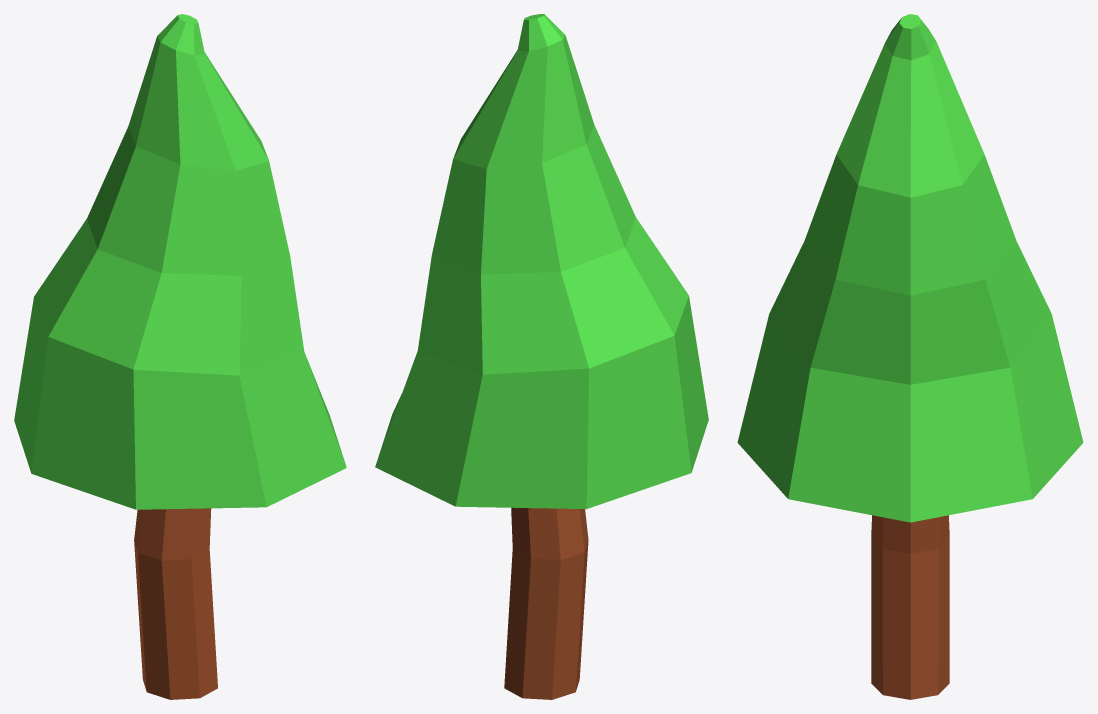
The model's file is Tree004_V1.fbx.
3 renders of one model, left to right at view 1: azimuth 30°, elevation 25°; view 2: azimuth 150°, elevation 25°; view 3: azimuth 270°, elevation 25°, orthographic.
Visible parts, largest first — view 1: Tree004.002; view 2: Tree004.002; view 3: Tree004.002.
Boxes of the visible parts, box(x1,y1,x2,y2) form: Tree004.002: box(14, 14, 346, 699); Tree004.002: box(375, 14, 708, 699); Tree004.002: box(737, 14, 1083, 699).
Size of the model in its own units: 2.43 by 5.18 by 2.43.
